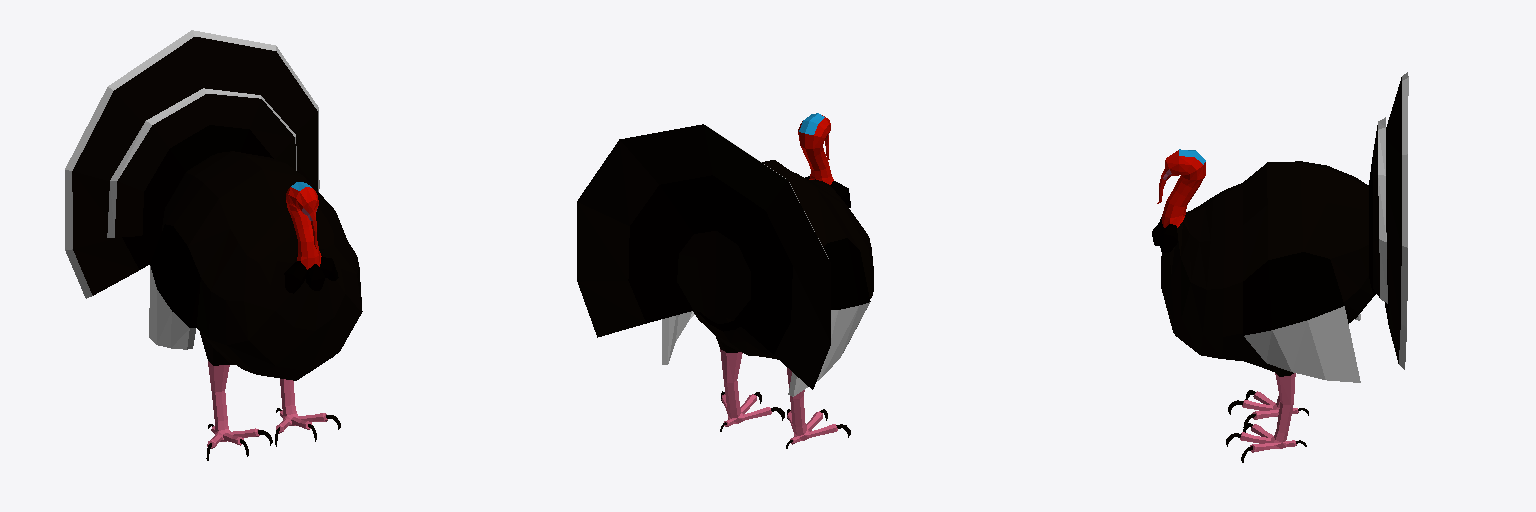
File: turkey 1.obj
3 views of the same model, side by side, from view 1: azimuth 30°, elevation 25°; view 2: azimuth 150°, elevation 25°; view 3: azimuth 270°, elevation 25° (orthographic).
Parts seen in each view (by area): view 1: Turkey; view 2: Turkey; view 3: Turkey.
Part boxes in pixels (x1,y1,x2,y2): Turkey: (65,30,362,460); Turkey: (577,113,873,448); Turkey: (1152,72,1408,462).
Bounding box in the file's own units: 3.79 × 5.09 × 3.32.